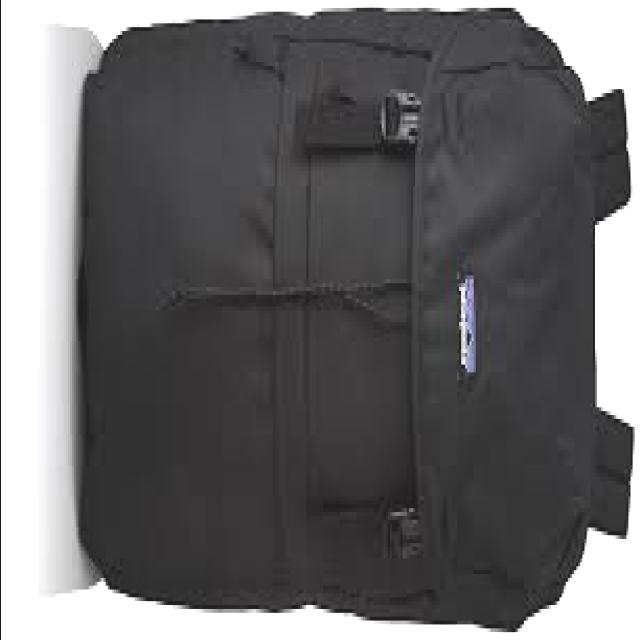backpack: (79, 5, 637, 633)
